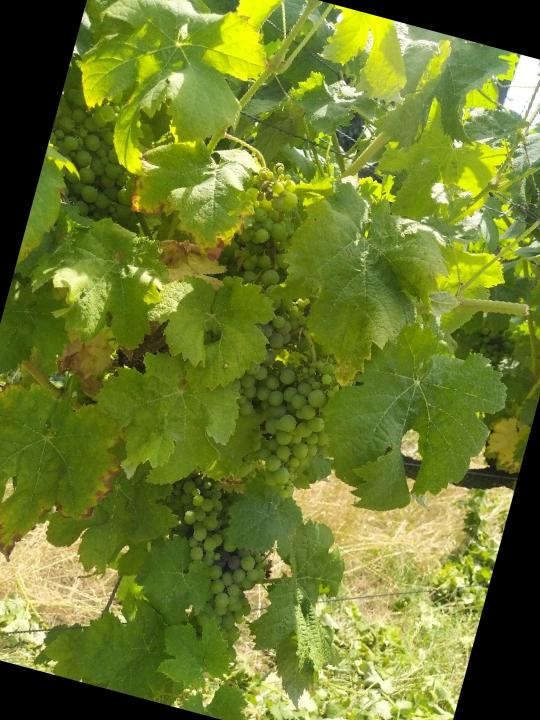grape: (211, 346, 346, 514)
